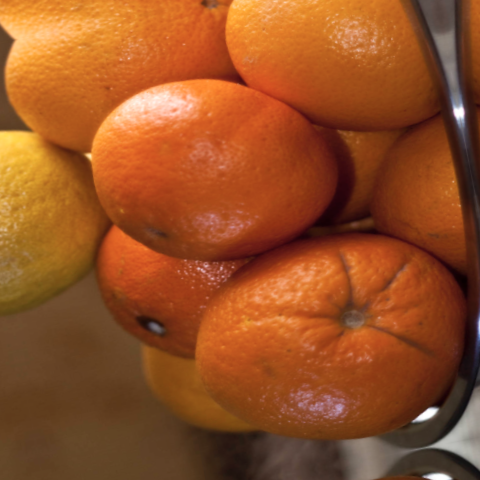orange: (30, 48, 365, 311), (168, 203, 480, 479)
